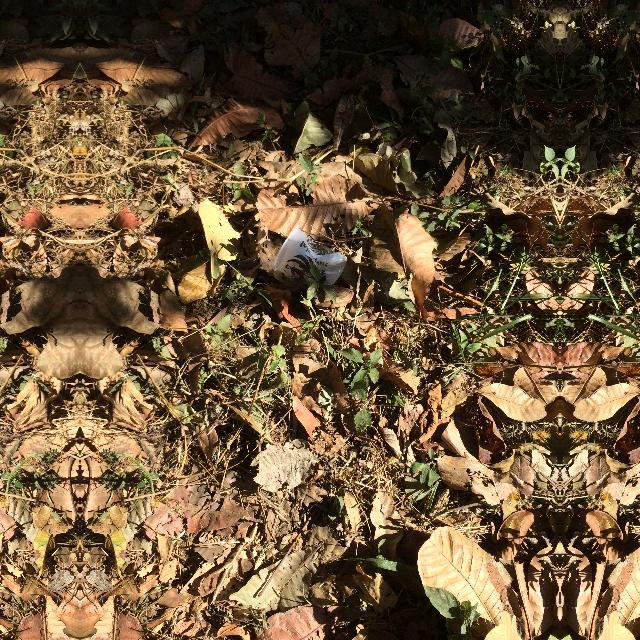Plastic: (270, 224, 350, 288)
